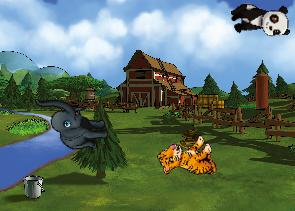elephant: (35, 92, 109, 153)
panda: (229, 3, 290, 37)
tiger: (154, 128, 222, 192)
